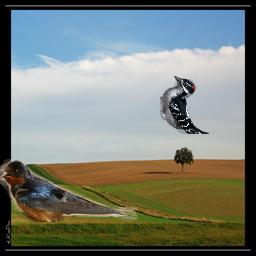Swallow: (0, 159, 138, 222)
Woodpecker: (160, 76, 209, 134)
